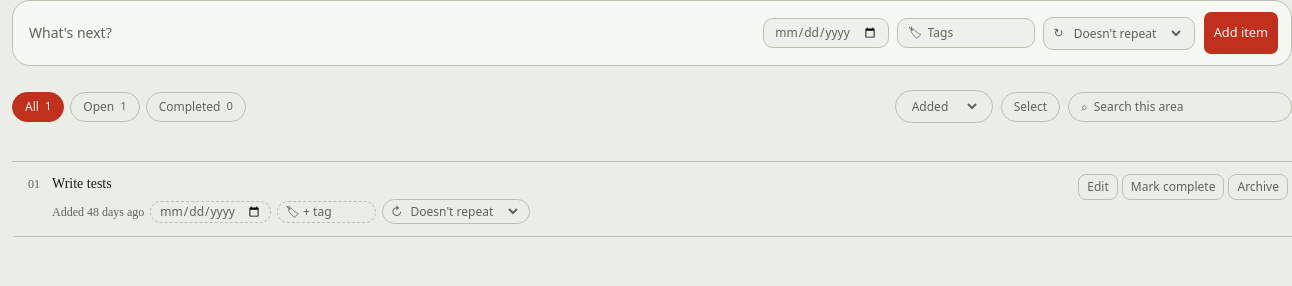
Scenario: TaskWorkspace › keeps the previous task text when editing fails
The image size is (1292, 286).
Click the button "Edit".
click(1098, 187)  # box [1078, 174, 1118, 200]
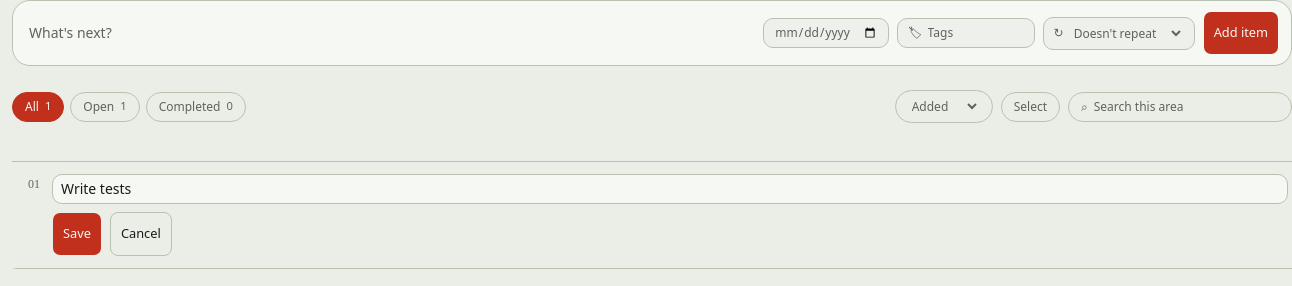
Replace the text in the field named "Edit task" with "Duplicate" at (670, 189), box [52, 174, 1288, 204]
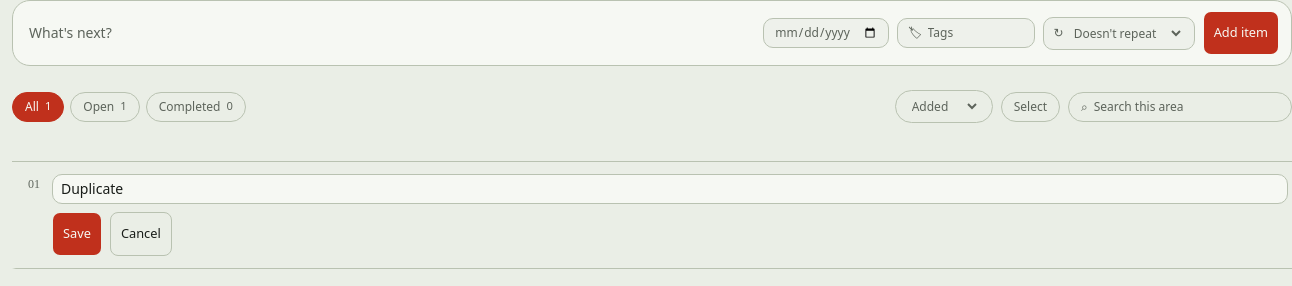
Click the button "Save".
click(77, 234)  # box [52, 212, 102, 256]
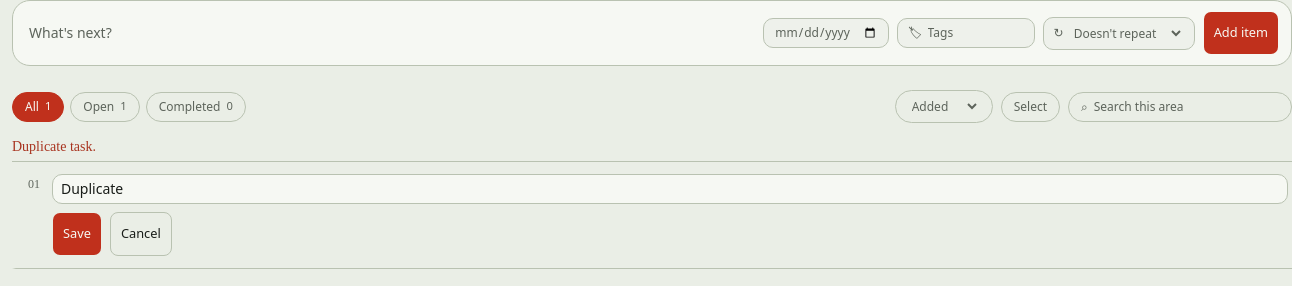
expect the text "Duplicate task." is shown: met, box [12, 139, 96, 154]
